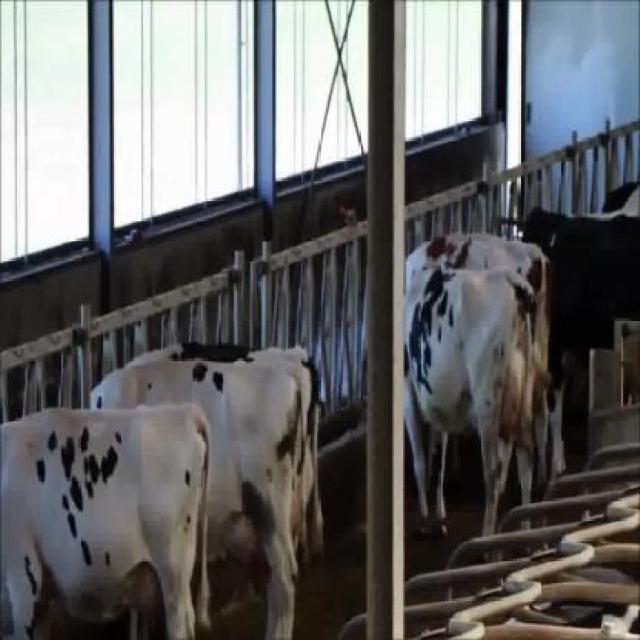Cow: (90, 356, 312, 638), (0, 398, 214, 638), (403, 266, 535, 572)
